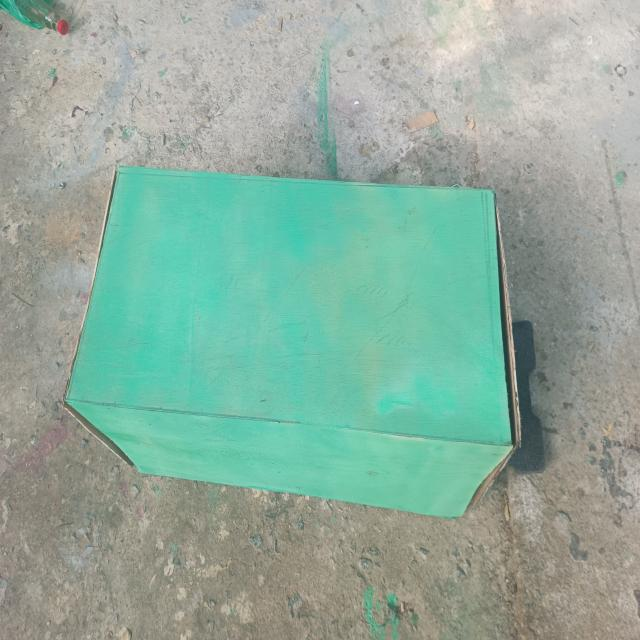green_box: (58, 140, 524, 562)
